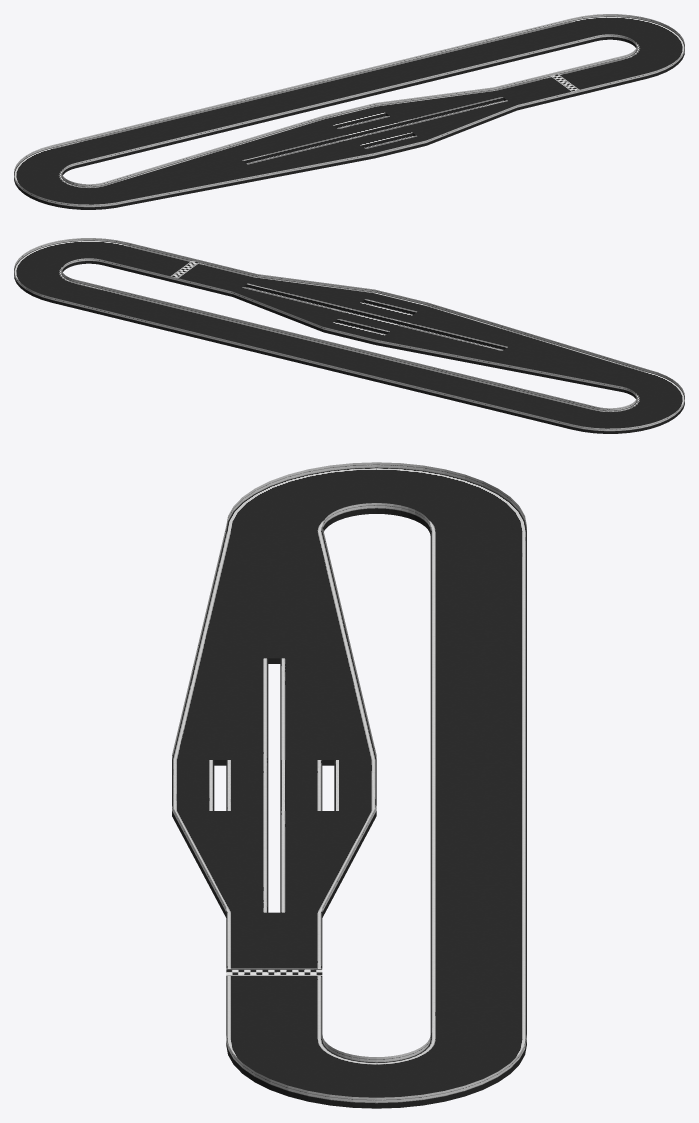
The model's file is splitpathtrack.fbx.
The picture shows the model from 3 angles, top to bottom: view 1: azimuth 30°, elevation 25°; view 2: azimuth 150°, elevation 25°; view 3: azimuth 270°, elevation 25°; orthographic projection. The views are drawn at different scales.
Visible parts, largest first — view 1: roads, barriers, 25turn90road, 25turn90road.002, 25turn90road.003, 25turn90road.001, 25turn90barriers, 25turn90barriers.002; view 2: roads, barriers, 25turn90road.001, 25turn90road.003, 25turn90road.002, 25turn90road, 25turn90barriers.001, 25turn90barriers.003; view 3: roads, 25turn90road.002, 25turn90road.003, 25turn90road.001, 25turn90road, barriers, 25turn90barriers.003, 25turn90barriers, 25turn90barriers.001, 25turn90barriers.002.
Boxes of the visible parts, x1,y1,x2,y2 form: roads: (52,21,647,205); barriers: (51,18,647,202); 25turn90road: (24,181,126,209); 25turn90road.002: (573,16,674,44); 25turn90road.003: (624,32,684,78); 25turn90road.001: (14,148,75,193); 25turn90barriers: (24,179,126,207); 25turn90barriers.002: (572,14,674,42); roads: (51,245,646,429); barriers: (51,242,647,426); 25turn90road.001: (572,405,674,433); 25turn90road.003: (24,240,125,268); 25turn90road.002: (14,256,74,302); 25turn90road: (623,372,684,417); 25turn90barriers.001: (572,403,674,431); 25turn90barriers.003: (24,238,126,266); roads: (172,531,526,1039); 25turn90road.002: (376,1039,526,1108); 25turn90road.003: (226,1039,376,1108); 25turn90road.001: (376,467,526,535); 25turn90road: (226,467,376,531); barriers: (172,526,376,912); 25turn90barriers.003: (226,1035,376,1103); 25turn90barriers: (226,462,376,529); 25turn90barriers.001: (376,462,526,530); 25turn90barriers.002: (376,1035,526,1103).
Size of what is drawn, in the model's own units: 250 by 2 by 59.
